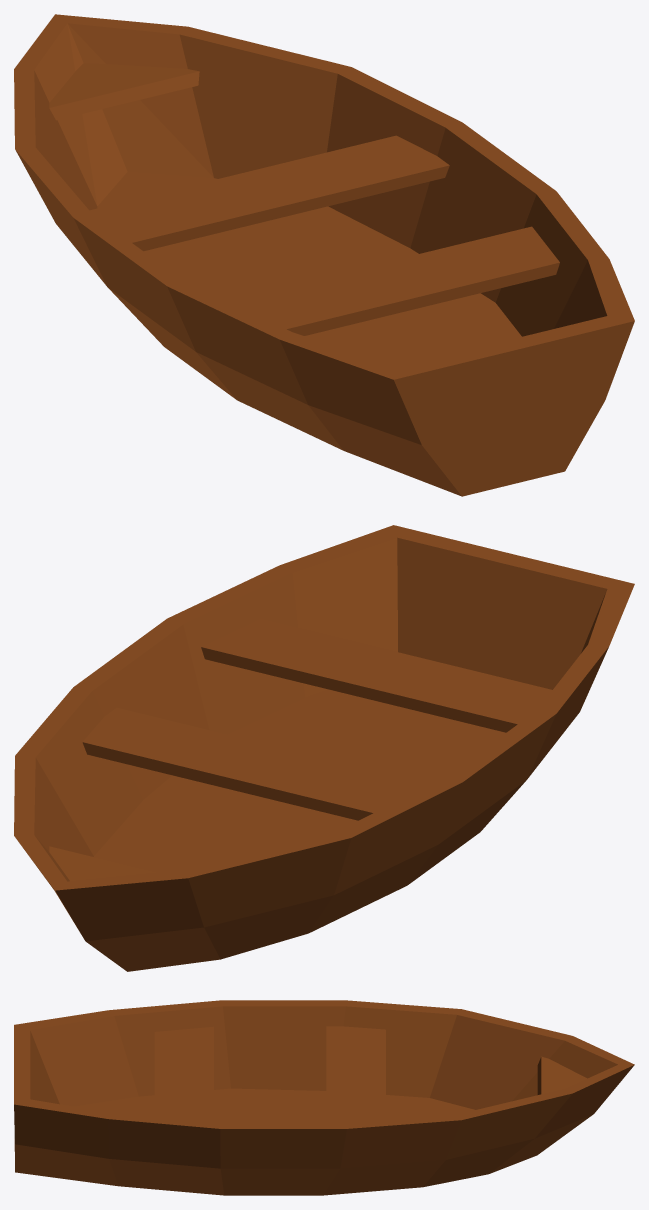
The model's file is Boat.fbx.
The picture shows the model from 3 angles, top to bottom: view 1: azimuth 30°, elevation 25°; view 2: azimuth 150°, elevation 25°; view 3: azimuth 270°, elevation 25°; orthographic projection. The views are drawn at different scales.
Parts seen in each view (by area): view 1: Boat; view 2: Boat; view 3: Boat.
Boxes of the visible parts, x1,y1,x2,y2 form: Boat: (14,14,634,496); Boat: (14,525,634,971); Boat: (14,1000,634,1195).
Size of the model in its own units: 1.34 by 0.4416 by 2.74.
